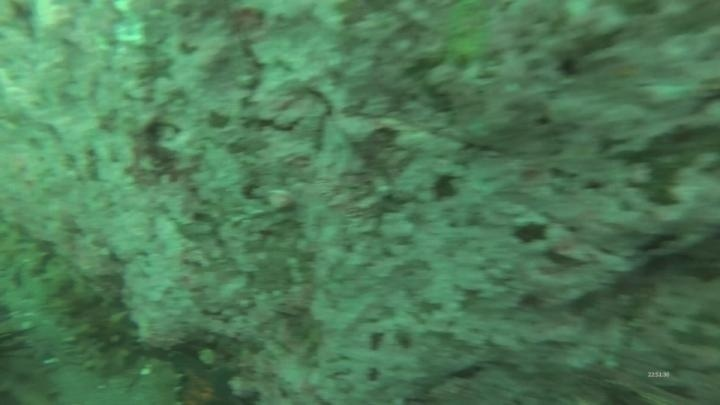holothurian: (17, 251, 141, 378), (1, 321, 63, 405), (134, 353, 188, 405)
starfish: (173, 360, 244, 403)
